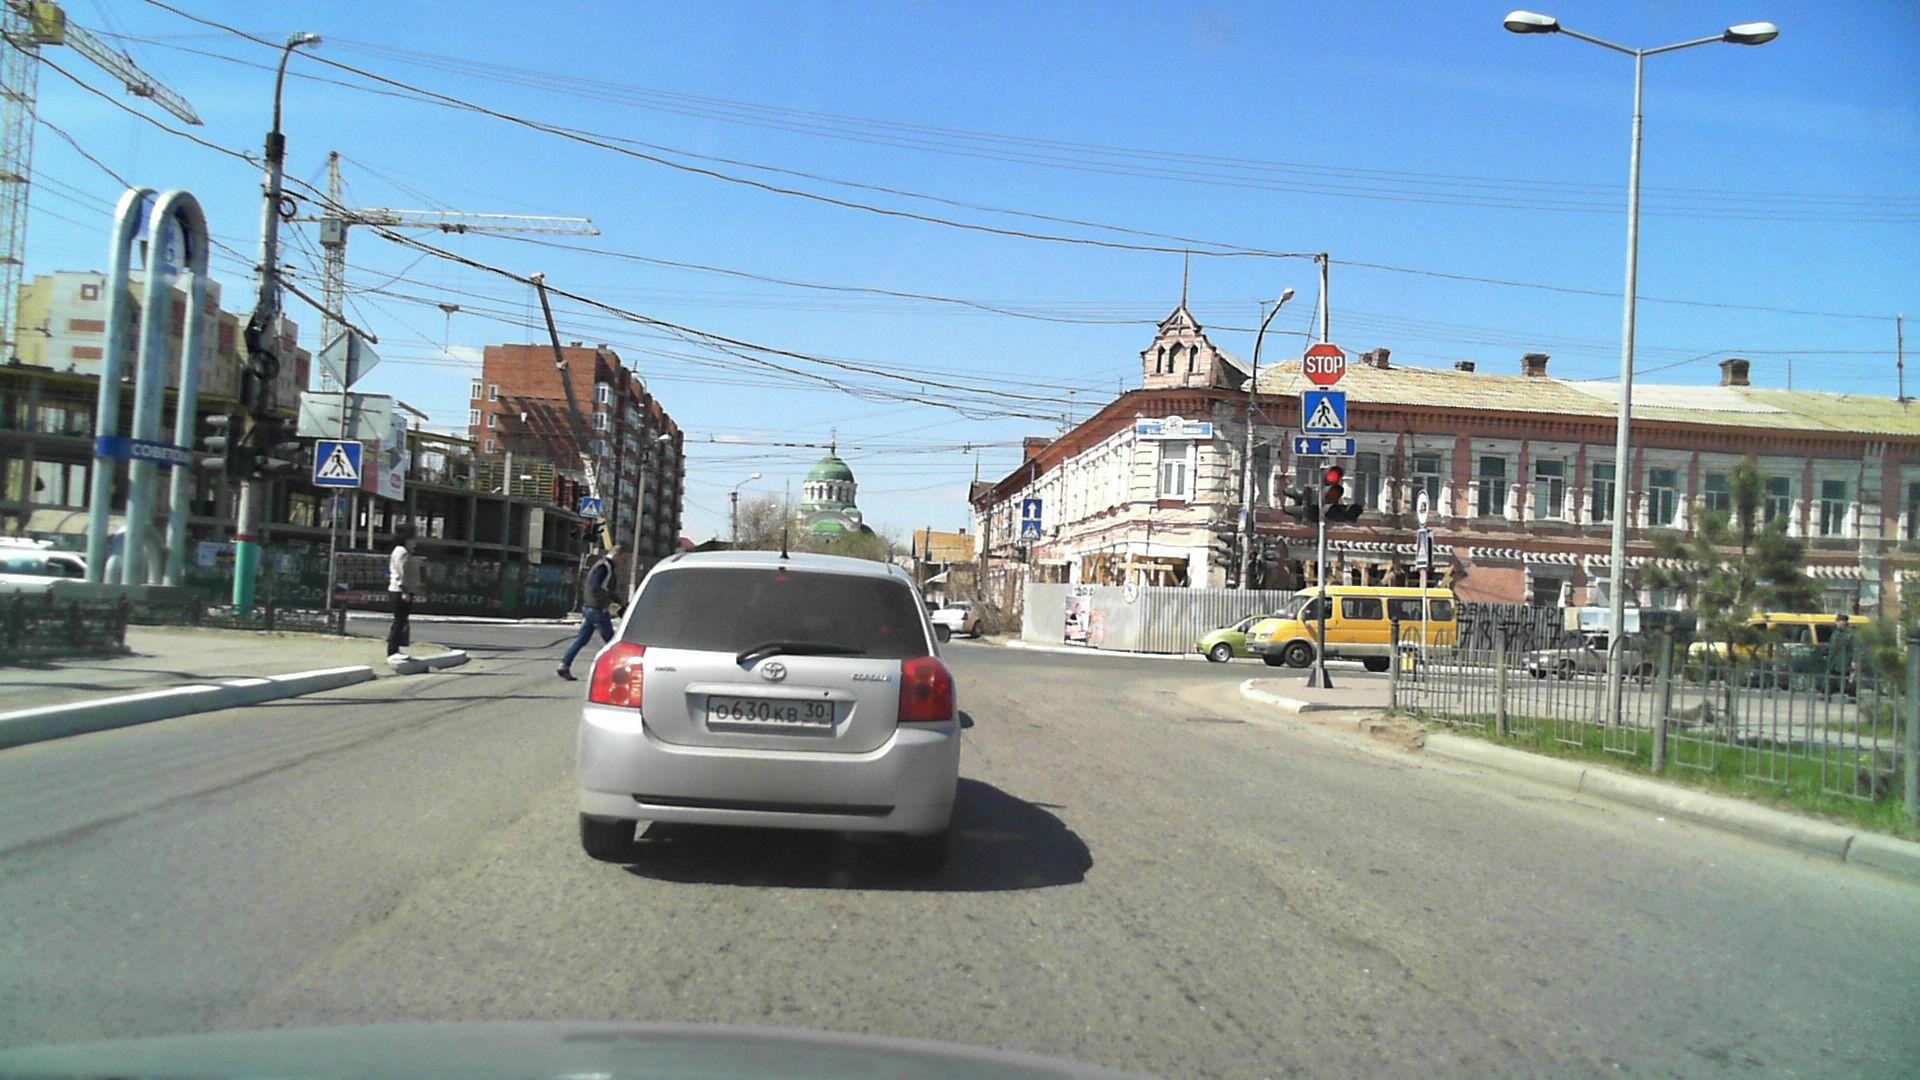2_5: (1302, 342, 1348, 388)
3_4: (1414, 488, 1431, 529)
5_19_1: (1302, 390, 1348, 431), (1415, 531, 1431, 567), (1021, 521, 1043, 541)
5_19_2: (315, 438, 360, 484), (580, 496, 601, 521), (1236, 509, 1247, 530)
5_5: (1021, 496, 1042, 518)
6_15_1: (1292, 436, 1357, 458)
